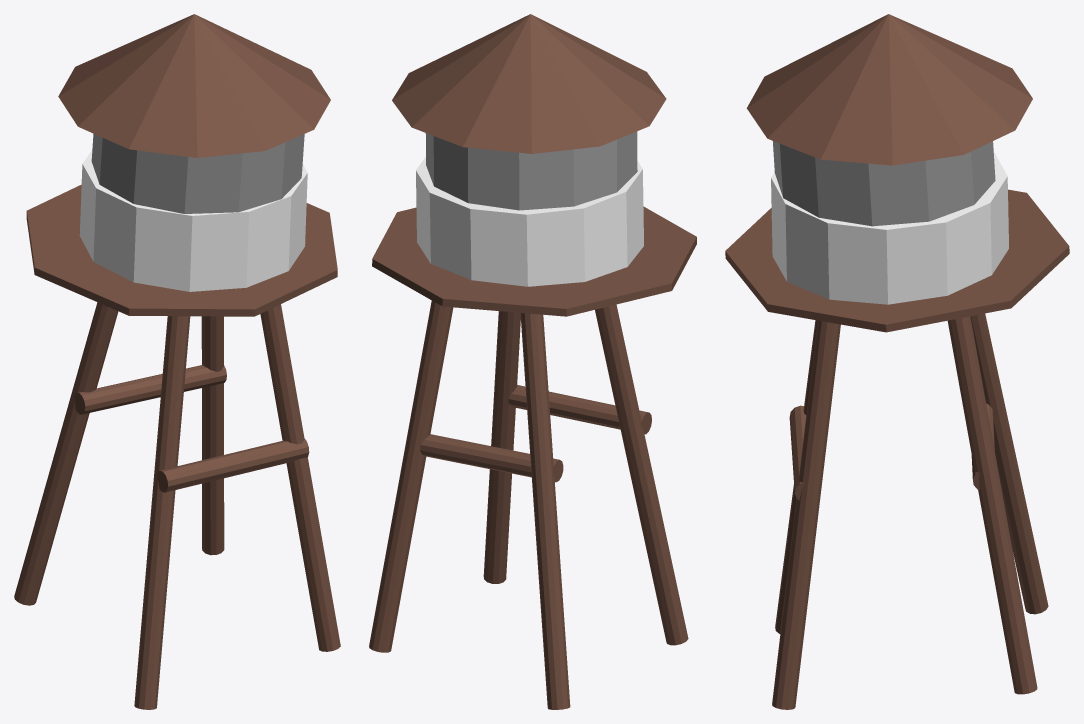
Rendered from tower.glb.
3 renders of one model, left to right at view 1: azimuth 30°, elevation 25°; view 2: azimuth 150°, elevation 25°; view 3: azimuth 270°, elevation 25°, orthographic. The views are drawn at different scales.
Visible parts, largest first — view 1: group1426230930; view 2: group1426230930; view 3: group1426230930.
Part boxes in pixels (box(x1,y1,x2,y2)): group1426230930: box(14, 14, 340, 709); group1426230930: box(369, 14, 696, 709); group1426230930: box(725, 14, 1069, 709).
Bounding box in the file's own units: 0.6419 × 1.37 × 0.6418.
